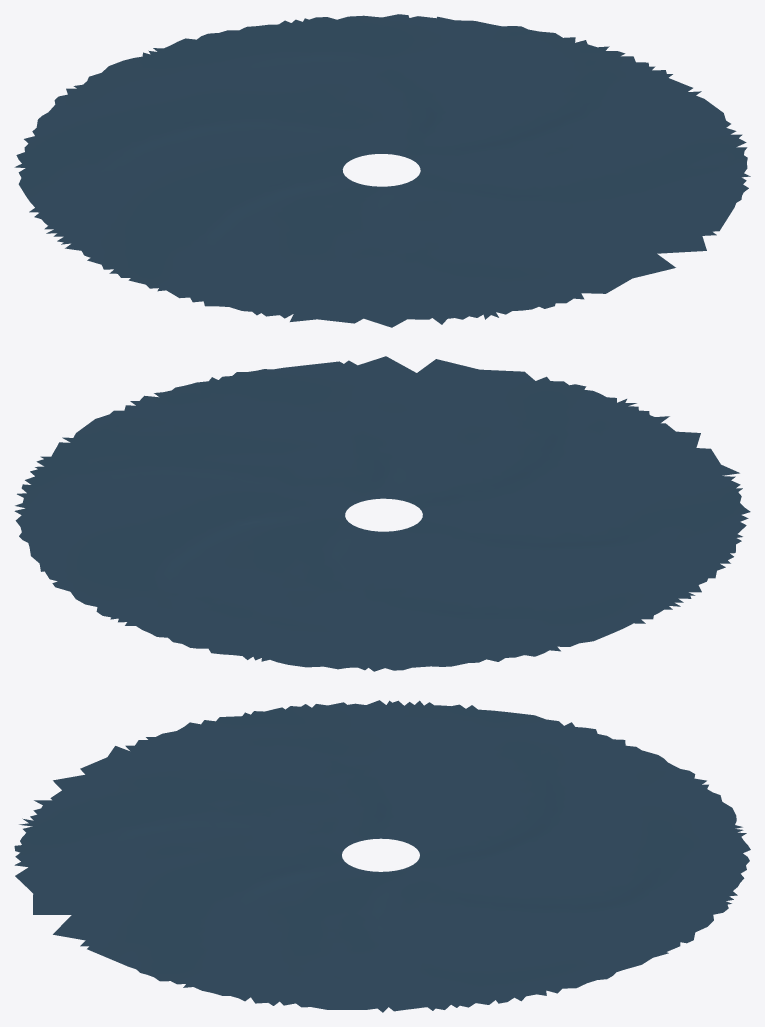
File: Water-island-wave-ring-3.fbx
The picture shows the model from 3 angles, top to bottom: view 1: azimuth 30°, elevation 25°; view 2: azimuth 150°, elevation 25°; view 3: azimuth 270°, elevation 25°; orthographic projection.
Visible parts, largest first — view 1: Cylinder; view 2: Cylinder; view 3: Cylinder.
Boxes of the visible parts, x1,y1,x2,y2 form: Cylinder: (14,14,750,327); Cylinder: (14,356,750,671); Cylinder: (14,700,750,1012).
Bounding box in the file's own units: 956 × 1.35 × 952.
Materials: 2 (2 with a texture image).
